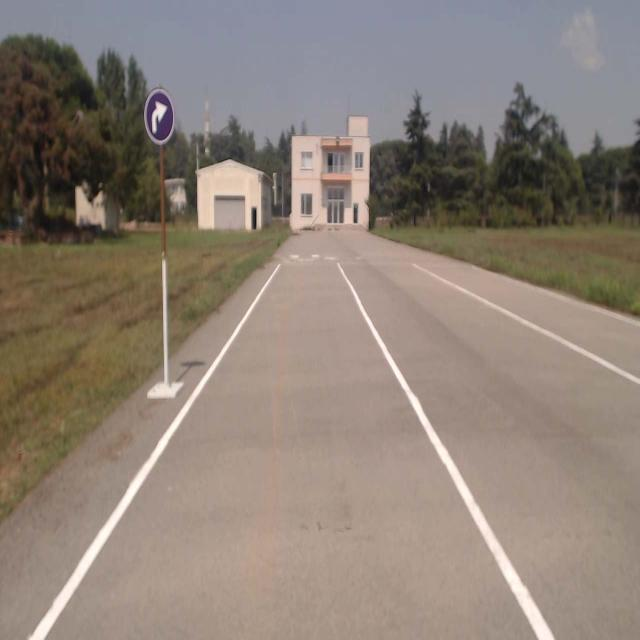sag: (144, 90, 174, 140)
